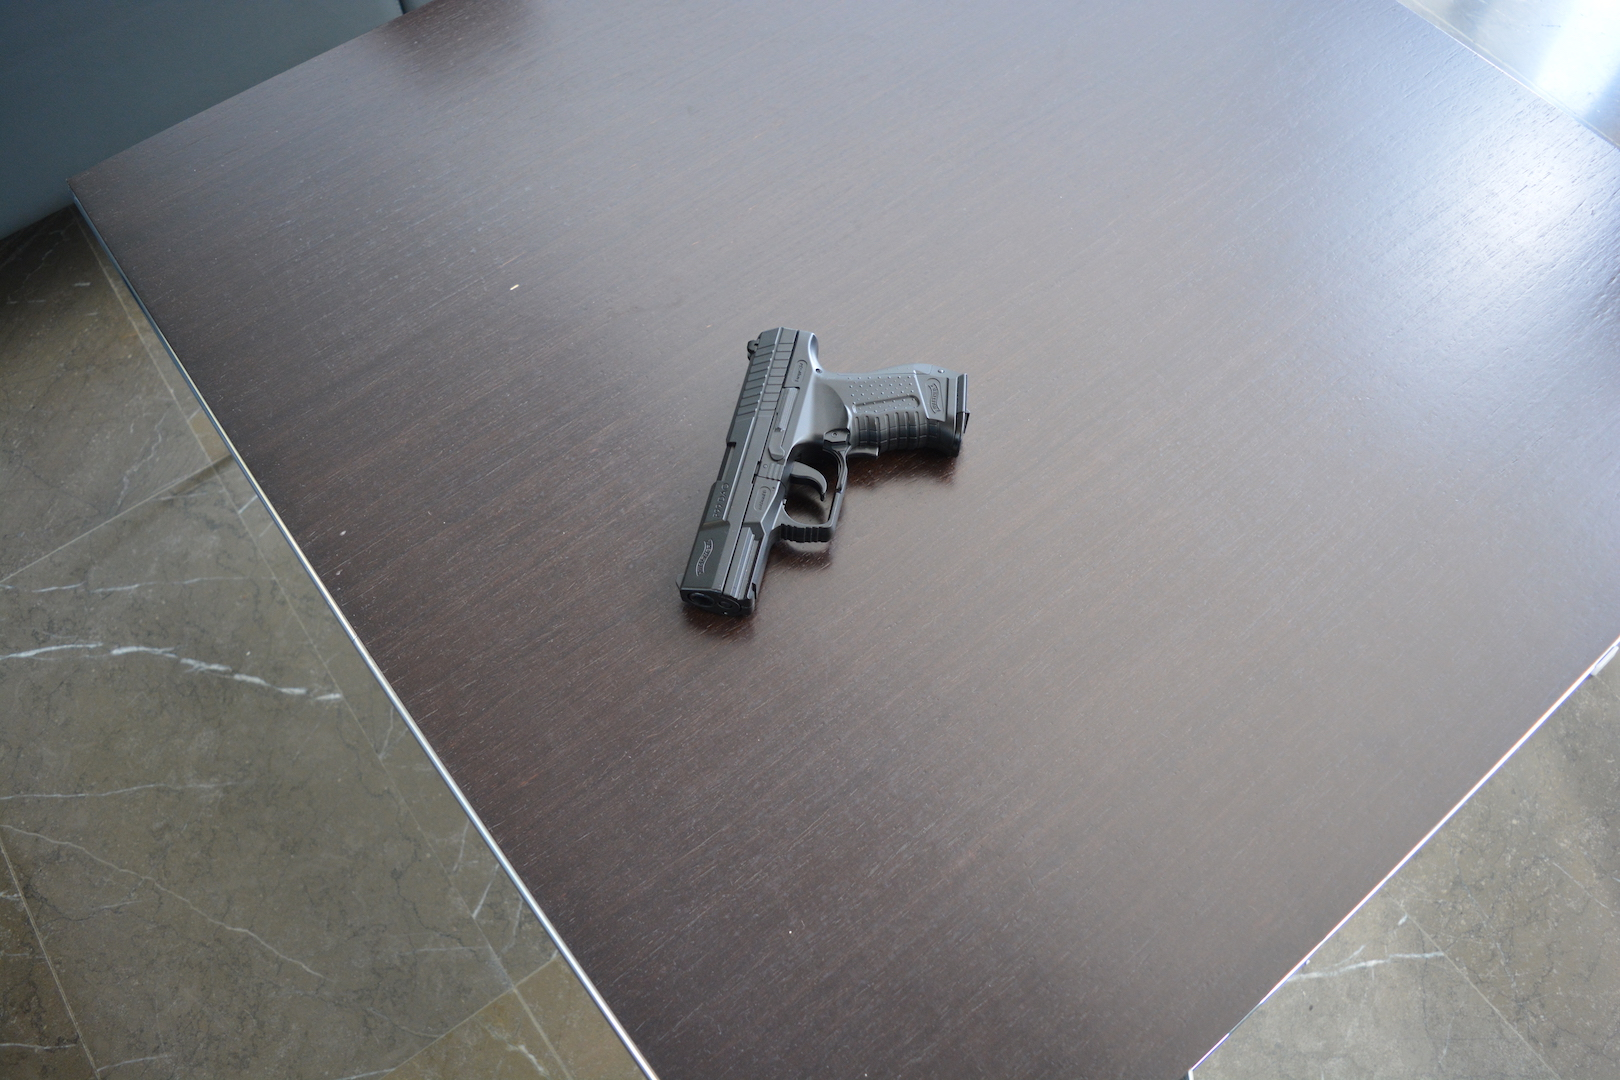pistol: (675, 327, 969, 620)
